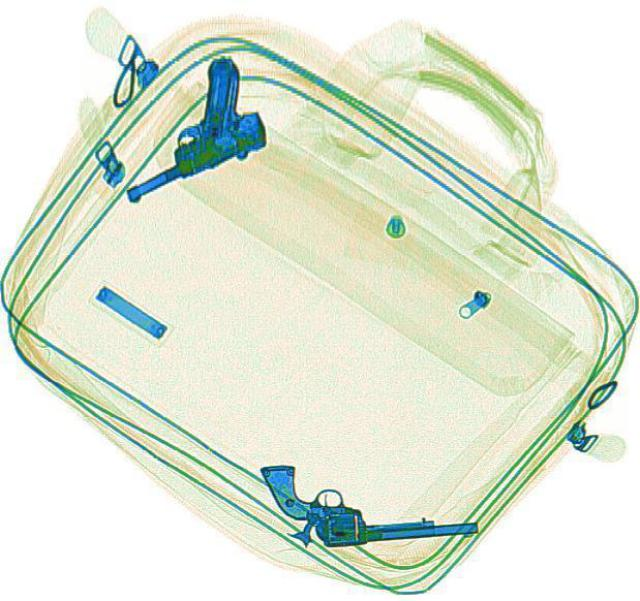Gun: (80, 51, 282, 206), (259, 445, 476, 552)
